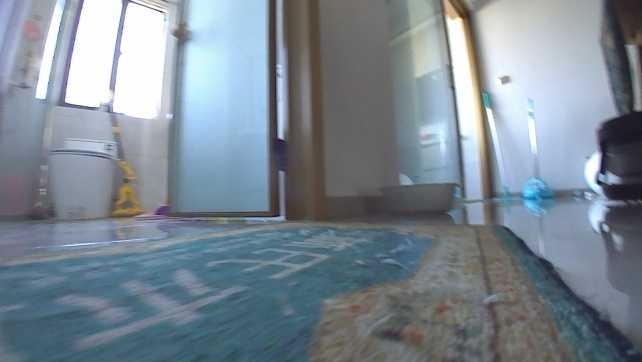blanket: (0, 219, 638, 360)
door_anno: (165, 3, 326, 220)
toilet: (45, 135, 119, 218)
